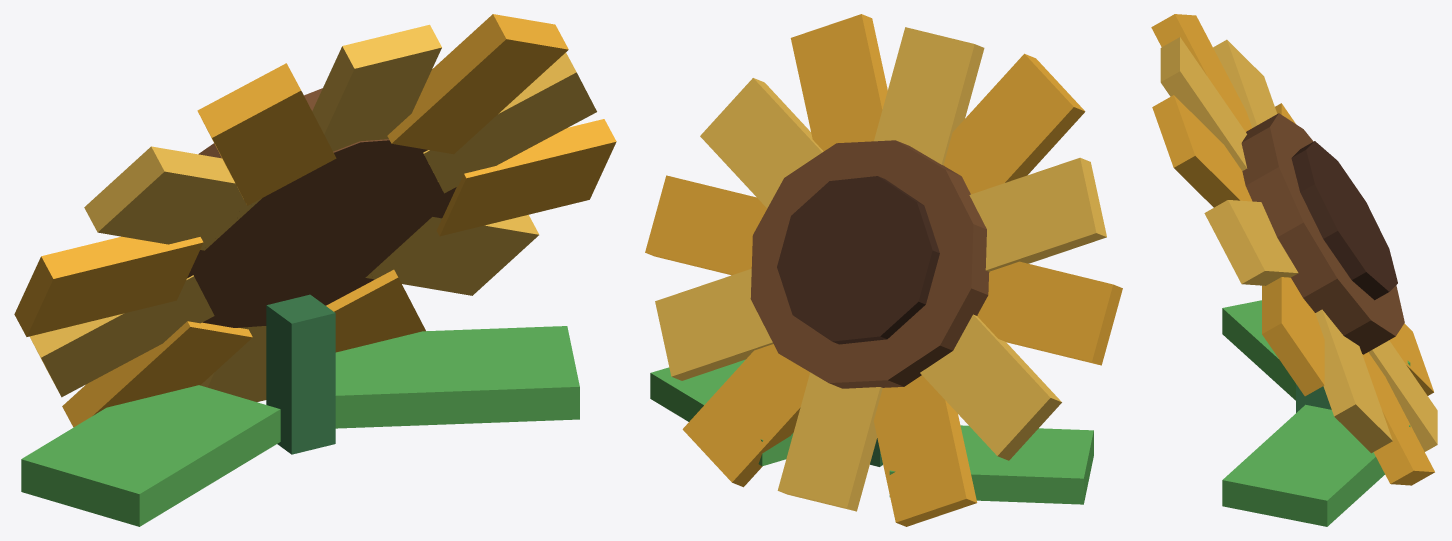
Rendered from CatCafe_Accessory_SunflowerHat.glb.
3 views of the same model, side by side, from view 1: azimuth 30°, elevation 25°; view 2: azimuth 150°, elevation 25°; view 3: azimuth 270°, elevation 25° (orthographic). The views are drawn at different scales.
Visible parts, largest first — view 1: CatCafe_Accessory_SunflowerHat; view 2: CatCafe_Accessory_SunflowerHat; view 3: CatCafe_Accessory_SunflowerHat.
Part boxes in pixels (left/top/right/bottom): CatCafe_Accessory_SunflowerHat: left=14, top=14, right=616, bottom=526; CatCafe_Accessory_SunflowerHat: left=645, top=14, right=1122, bottom=526; CatCafe_Accessory_SunflowerHat: left=1151, top=14, right=1437, bottom=526.
Bounding box in the file's own units: 0.9 × 0.746 × 0.4951.
1 material, 1 textured.
